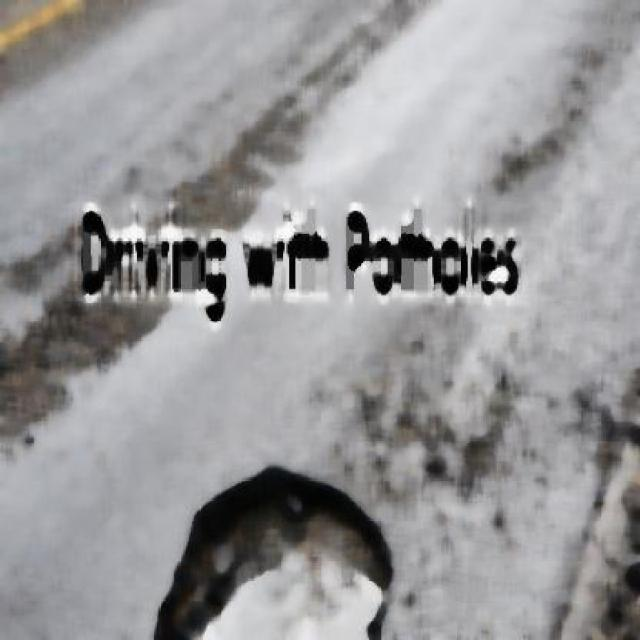Pothole: (174, 457, 383, 638)
